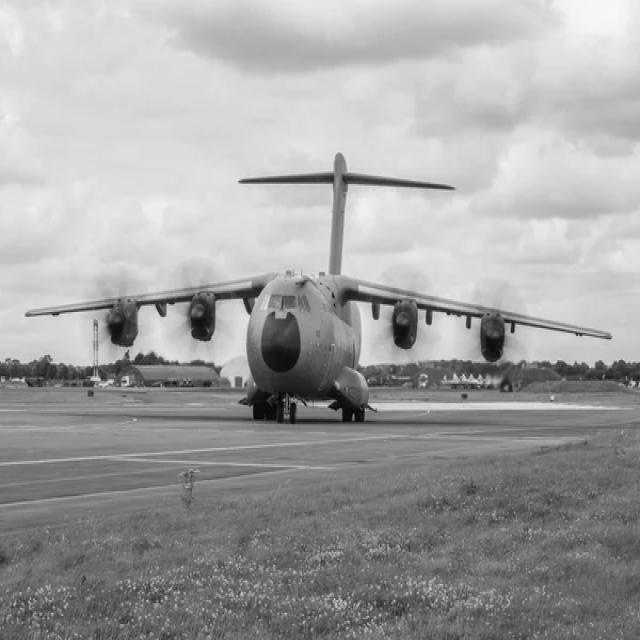Aircraft: (22, 149, 614, 430)
